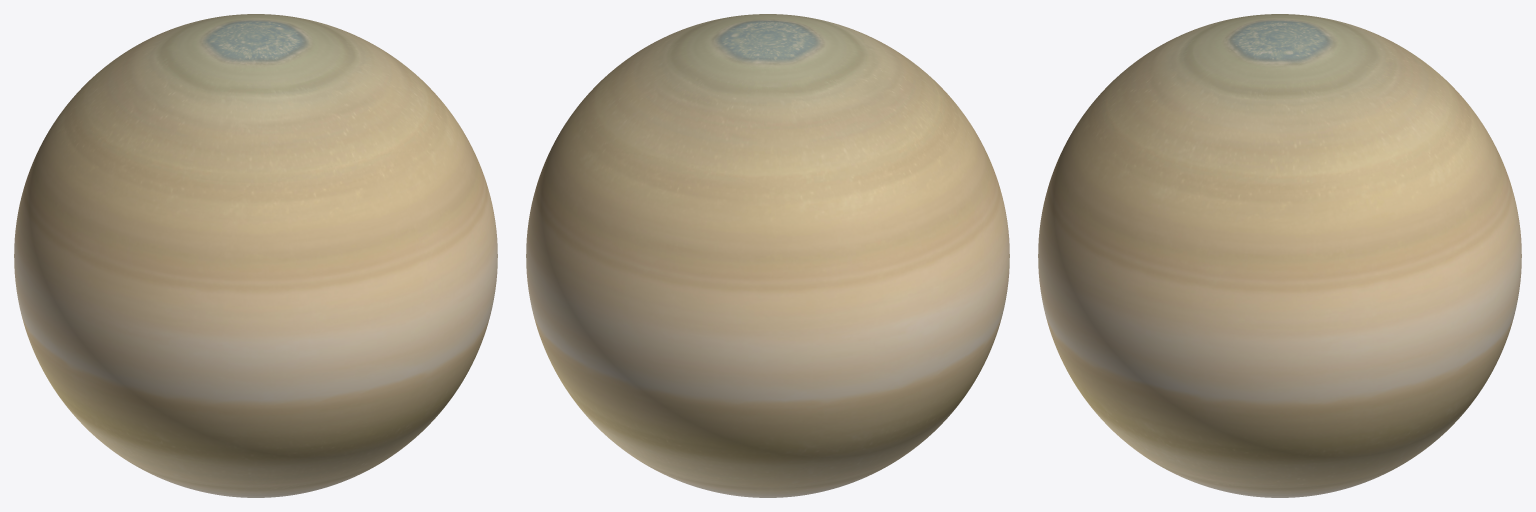
The model's file is saturn.glb.
The picture shows the model from 3 angles, left to right: view 1: azimuth 30°, elevation 25°; view 2: azimuth 150°, elevation 25°; view 3: azimuth 270°, elevation 25°; orthographic projection.
Visible parts, largest first — view 1: Saturn; view 2: Saturn; view 3: Saturn.
Boxes of the visible parts, bbox=[...] form: Saturn: bbox=[14, 14, 497, 497]; Saturn: bbox=[526, 14, 1009, 497]; Saturn: bbox=[1038, 14, 1521, 497].
Bounding box in the file's own units: 4.19 × 4.2 × 4.19.
Materials: 1 (1 with a texture image).
